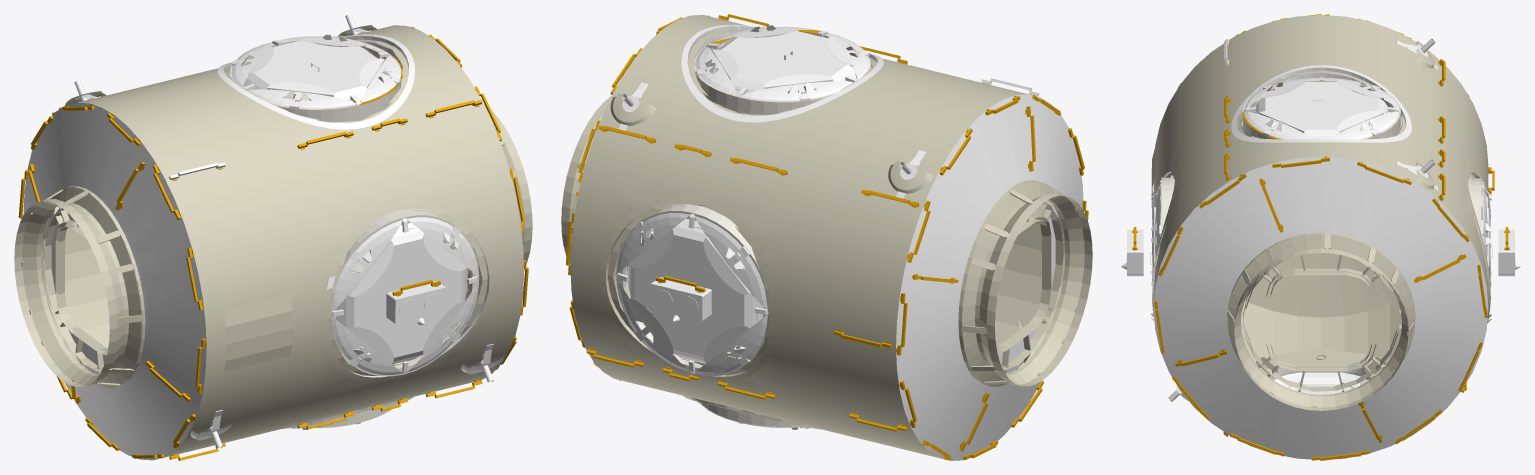
Rendered from iss_unity.fbx.
The picture shows the model from 3 angles, left to right: view 1: azimuth 30°, elevation 25°; view 2: azimuth 150°, elevation 25°; view 3: azimuth 270°, elevation 25°; orthographic projection. The views are drawn at different scales.
Parts seen in each view (by area): view 1: node1; view 2: node1; view 3: node1.
Boxes of the visible parts, box(x1,y1,x2,y2) form: node1: box(14, 14, 532, 460); node1: box(561, 14, 1092, 460); node1: box(1121, 14, 1520, 460).
Size of the model in its own units: 2187 by 1675 by 1957.
